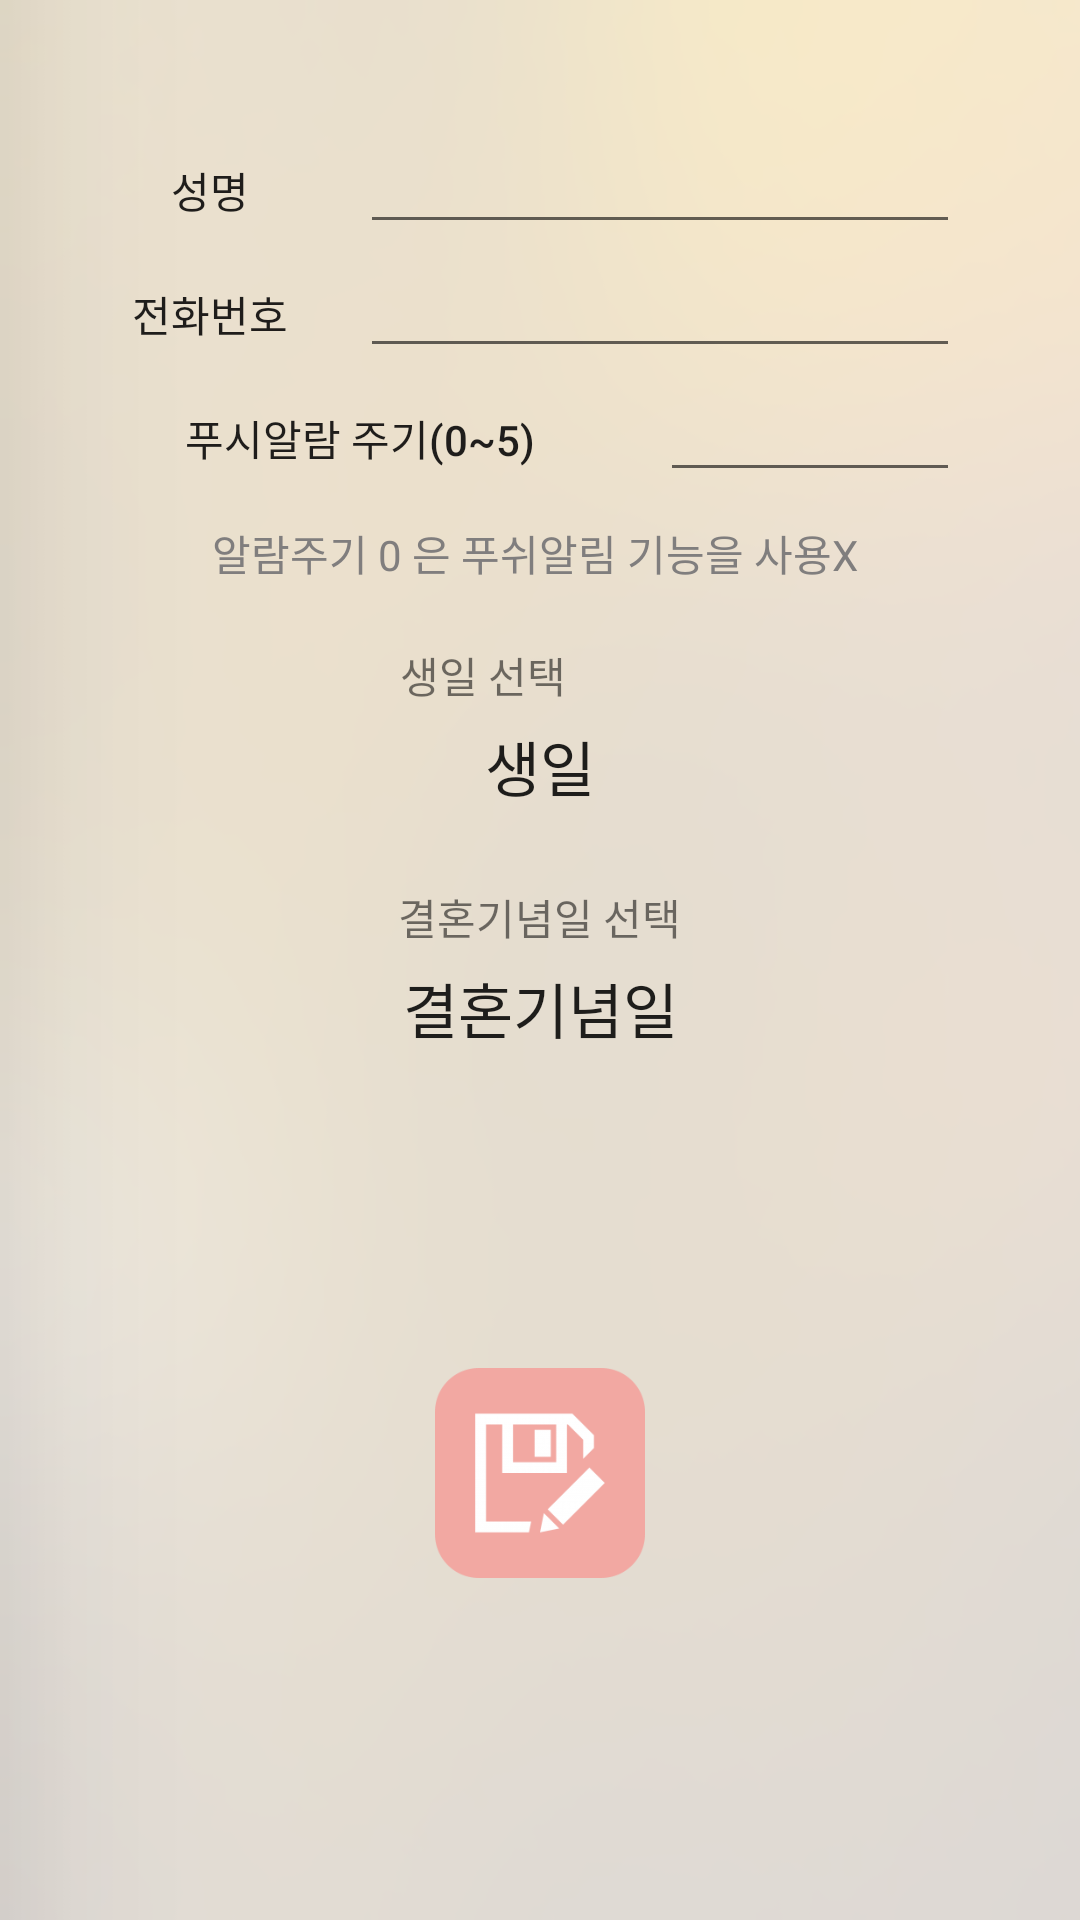

Named icons in this screenshot (1080×1920) and their centers, (x,y):
savebutton: (540,1473)
